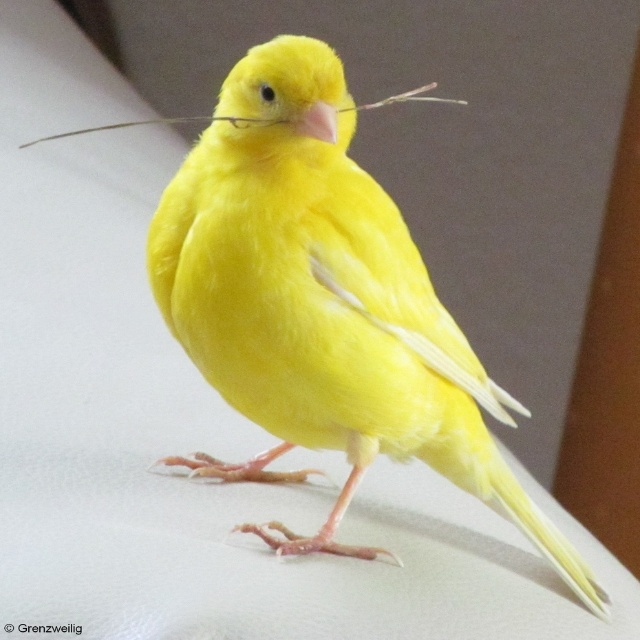Canary: (141, 32, 612, 626)
